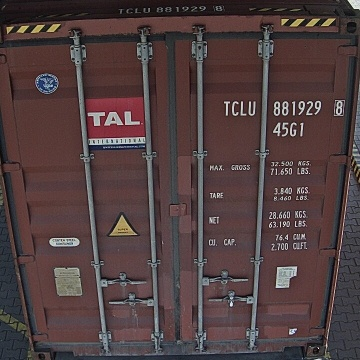serial_id: (224, 100, 344, 115)
